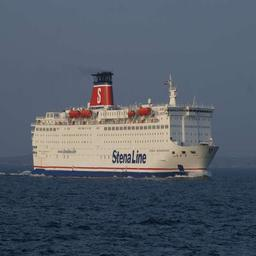Ship: (28, 68, 222, 179)
